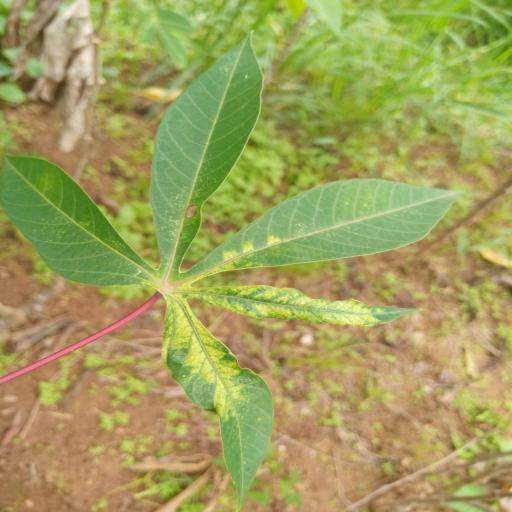Cassava_Mosaic: (0, 30, 464, 499)
